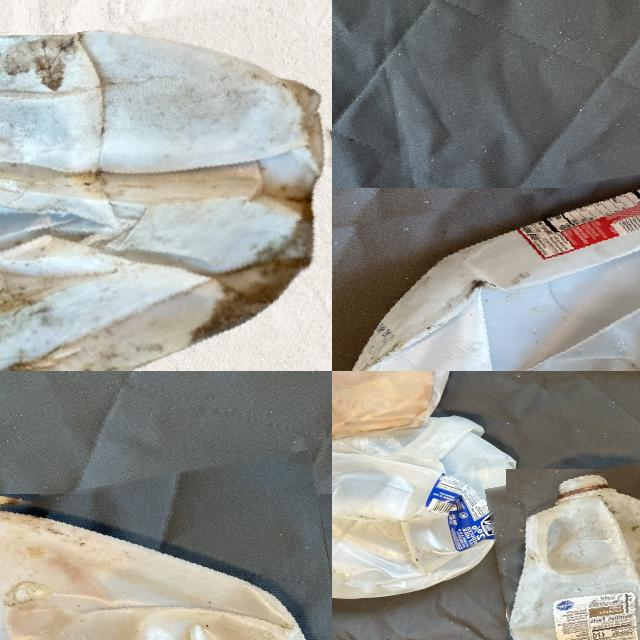milk-jug: (0, 14, 332, 371), (332, 166, 640, 371), (0, 472, 332, 640), (332, 413, 540, 595), (494, 461, 640, 640), (332, 371, 467, 441)
